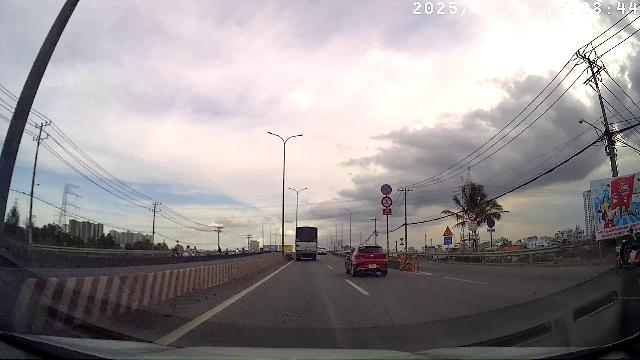130-cam-dung-va-do-xe: (381, 183, 392, 195)
